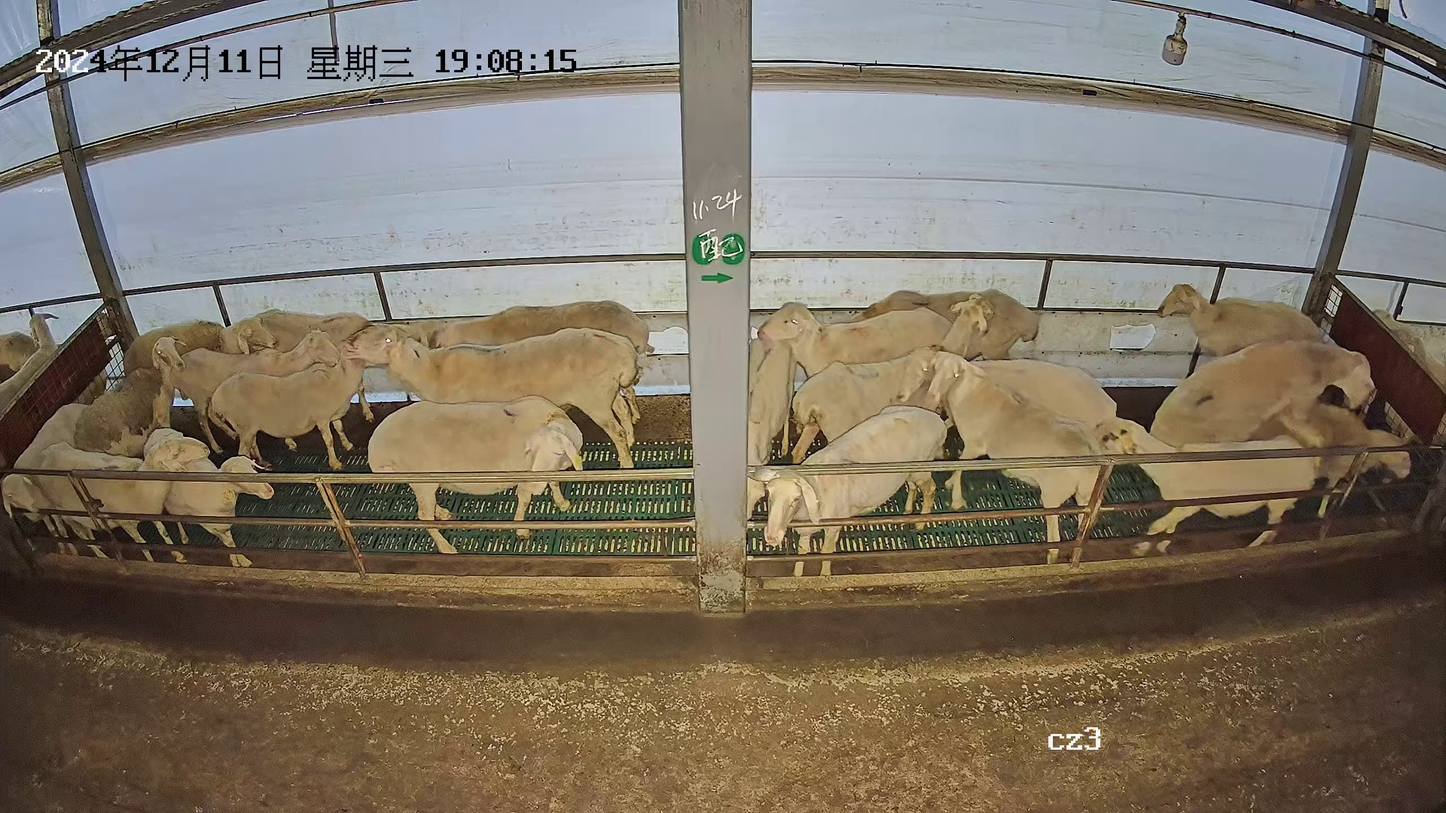Smounting: (1147, 338, 1417, 523)
mounted: (1251, 395, 1413, 518)
